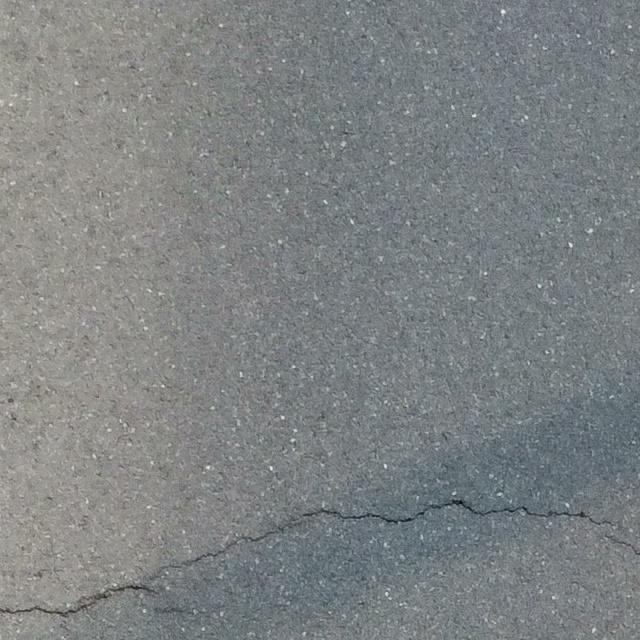TransverseCrack: (1, 499, 640, 617)
